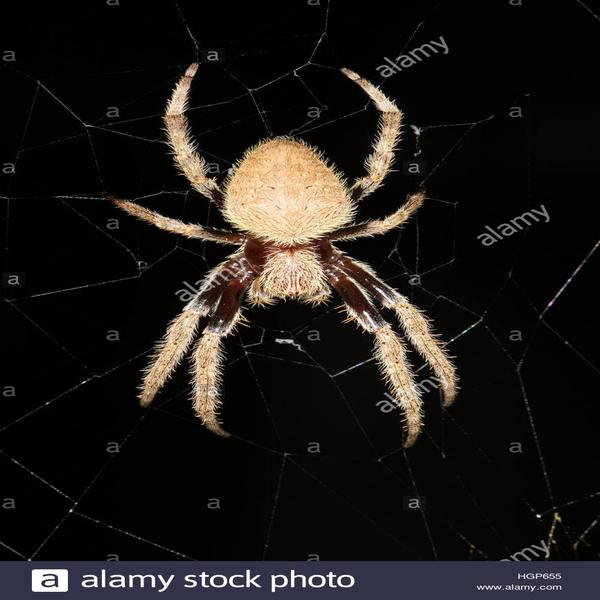Garden Orb Weaver Spider: (122, 66, 458, 441)
